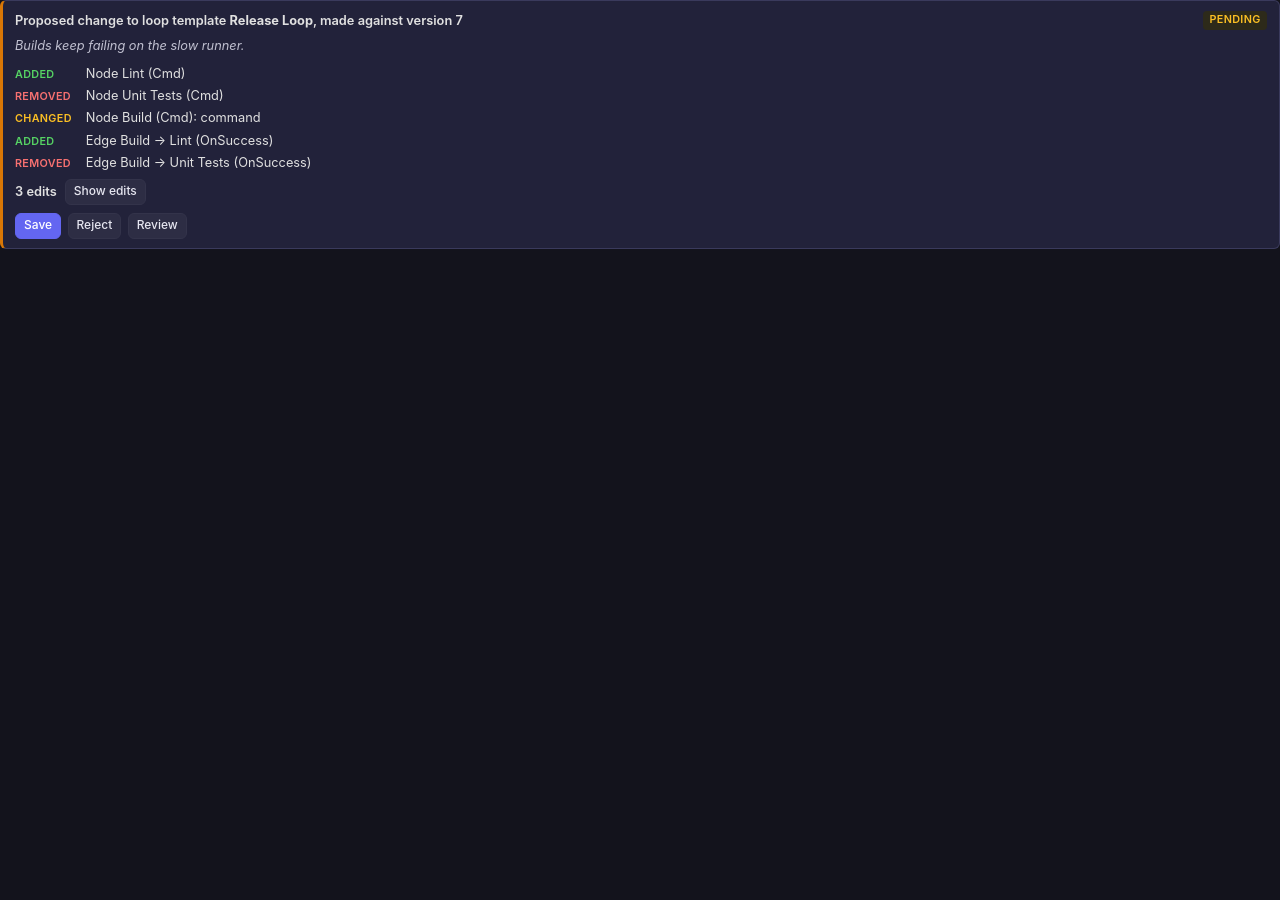
it: LoopTemplateProposalCard for an Edit List proposal › Show edits lists each edit in order with what the agent sent, naming nodes by id while the document is not loaded
Click the button "Show edits". click: click(105, 192)
box: [65,179,146,205]
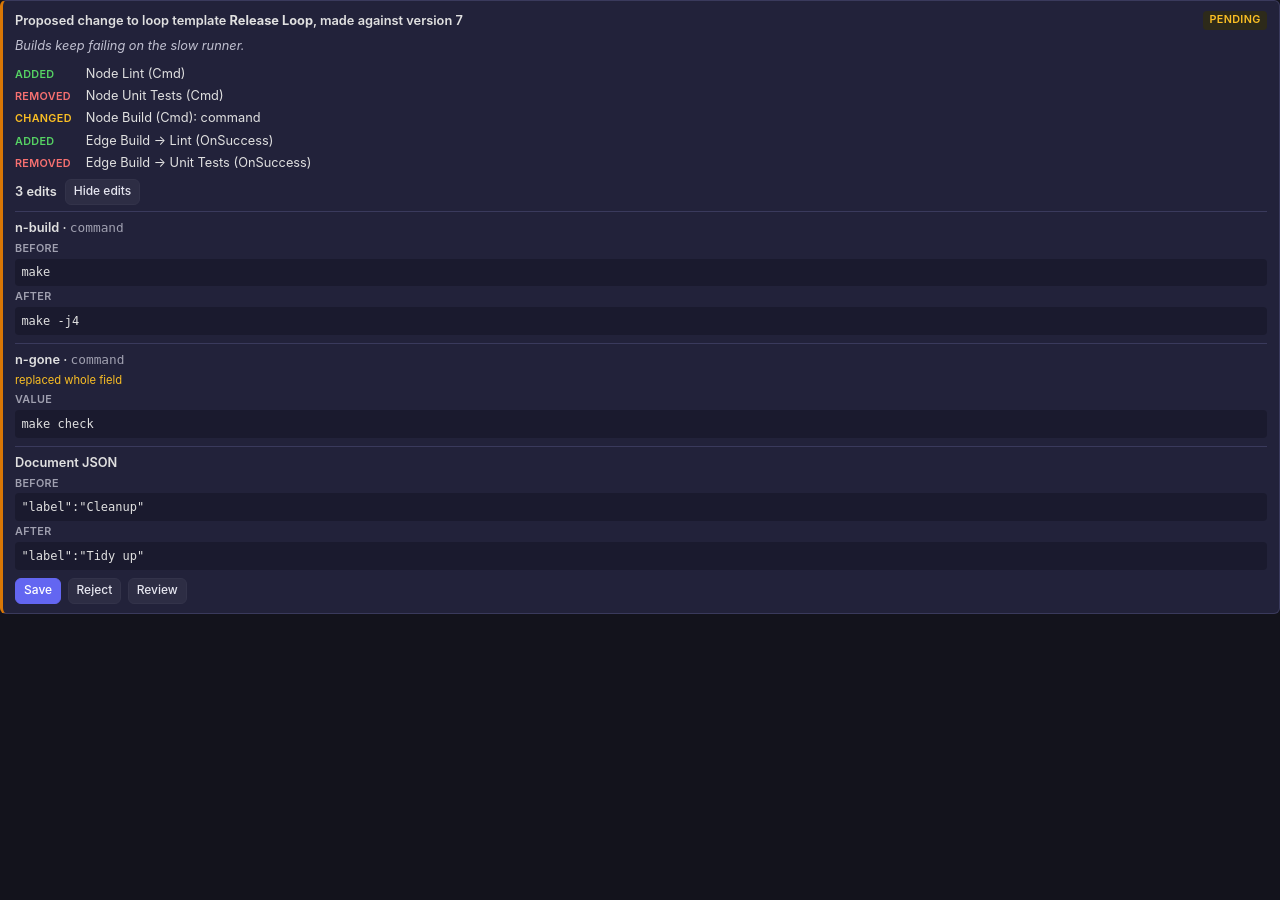
expect the text "n-build" is shown: met, box [15,220,59,235]
expect the text "command" next to "n-build" is shown: met, box [70,220,124,235]
expect the text named "Before" reads "make": met, box [21,265,50,279]
